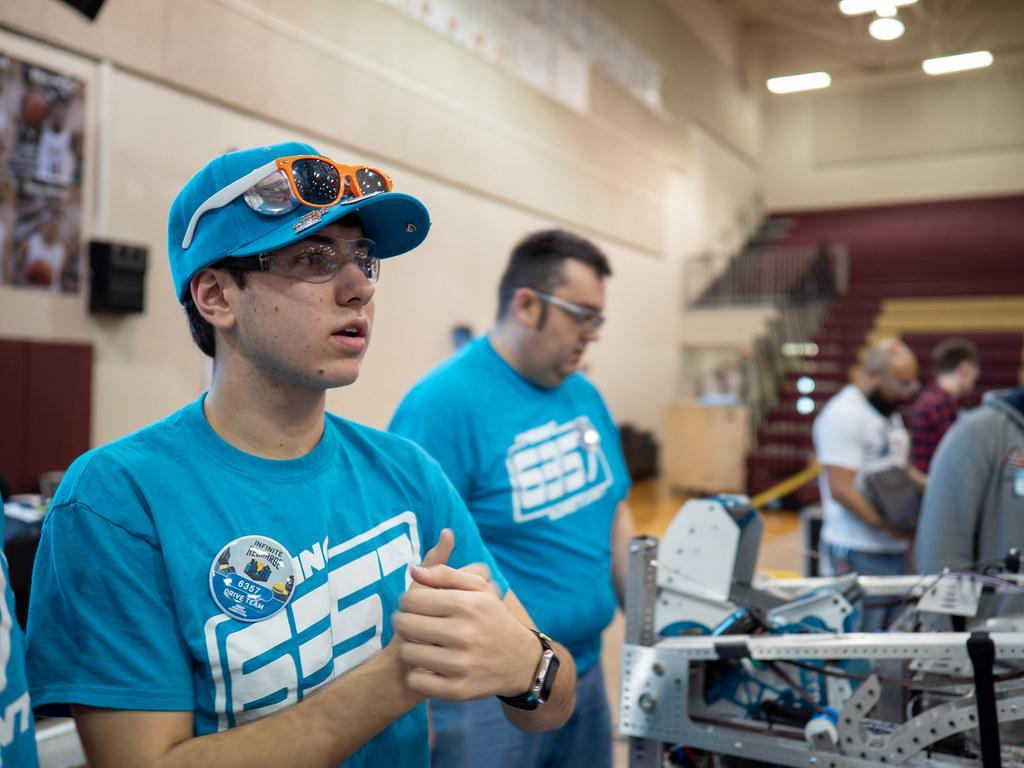robot: (611, 473, 1024, 768)
